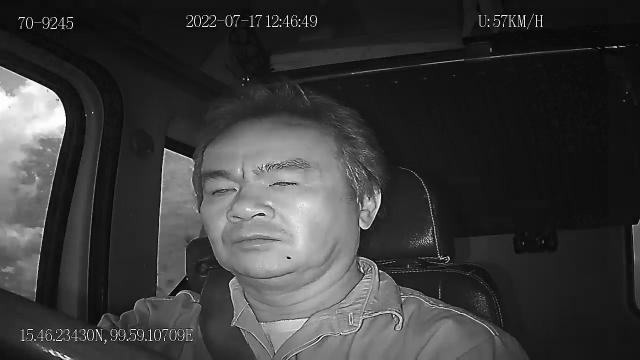SafeDriving: (260, 168, 311, 196)
Seatbelt: (197, 266, 260, 360)
